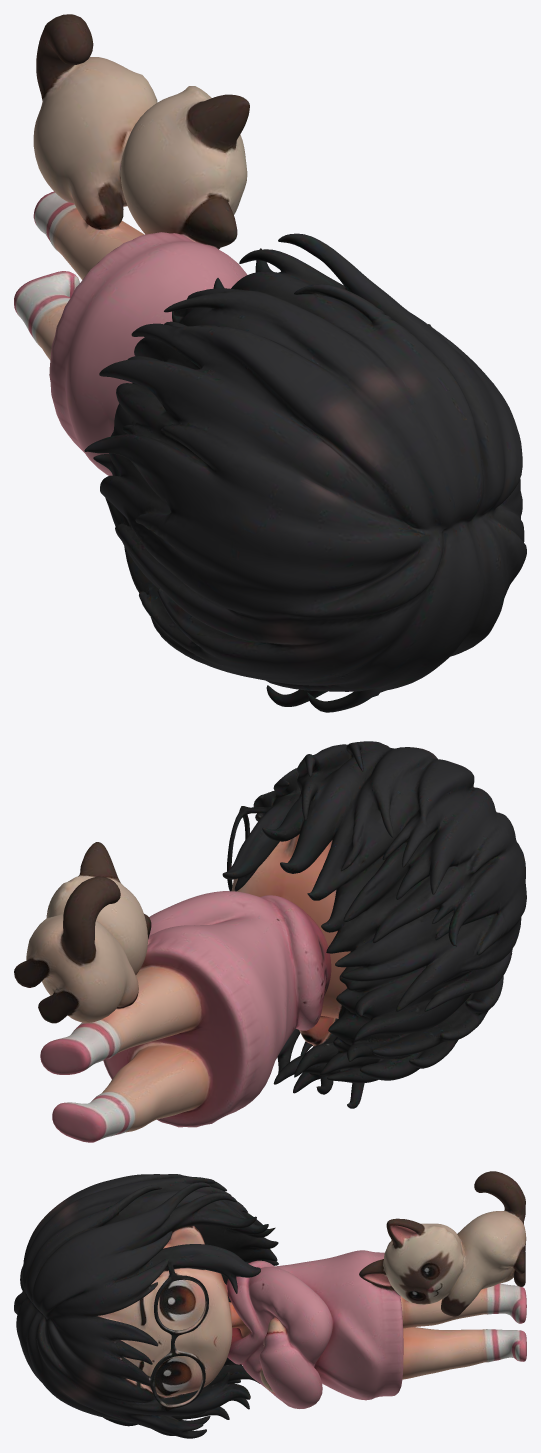
File: sylanne.glb
The picture shows the model from 3 angles, top to bottom: view 1: azimuth 30°, elevation 25°; view 2: azimuth 150°, elevation 25°; view 3: azimuth 270°, elevation 25°; orthographic projection. The views are drawn at different scales.
Visible parts, largest first — view 1: tripo_node_1fe42ab4; view 2: tripo_node_1fe42ab4; view 3: tripo_node_1fe42ab4.
Boxes of the visible parts, left/top/right/bottom form: tripo_node_1fe42ab4: left=14, top=14, right=526, bottom=712; tripo_node_1fe42ab4: left=14, top=741, right=526, bottom=1142; tripo_node_1fe42ab4: left=14, top=1171, right=526, bottom=1438.
Size of the model in its own units: 0.4415 by 0.5898 by 0.9791.
Materials: 1 (1 with a texture image).
